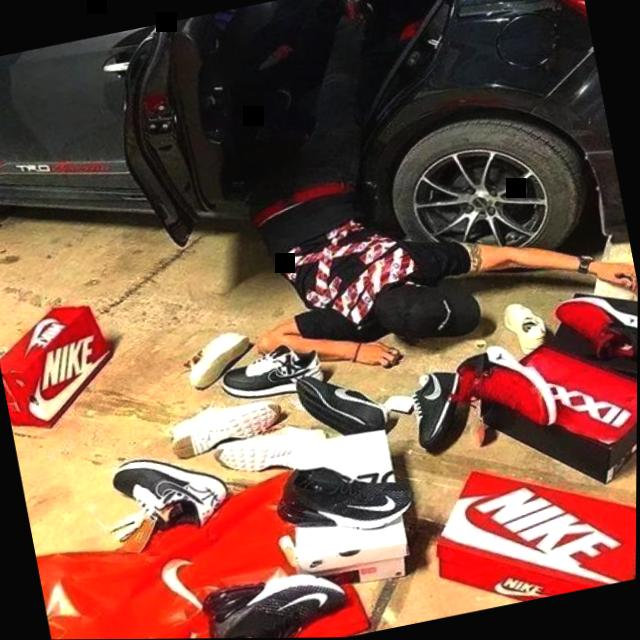Fall-Detected: (141, 0, 640, 398)
